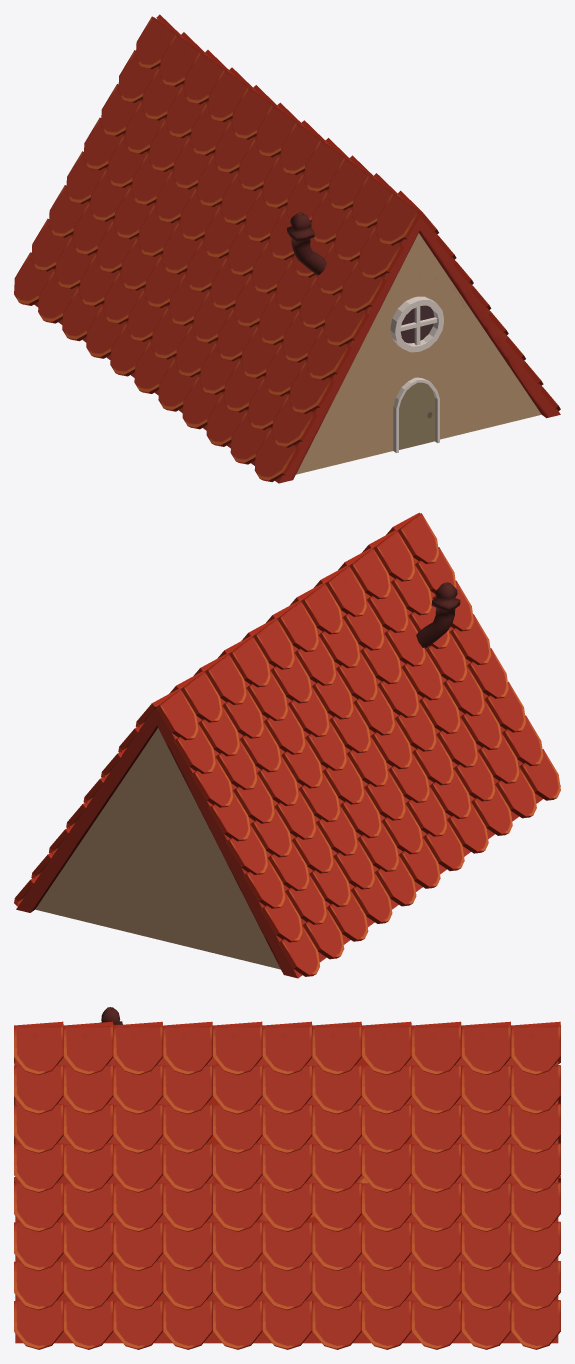
The model's file is House.fbx.
3 views of the same model, one above another, from view 1: azimuth 30°, elevation 25°; view 2: azimuth 150°, elevation 25°; view 3: azimuth 270°, elevation 25° (orthographic). The views are drawn at different scales.
Parts seen in each view (by area): view 1: House; view 2: House; view 3: House.
Boxes of the visible parts, left/top/right/bottom form: House: left=14, top=14, right=560, bottom=483; House: left=14, top=512, right=560, bottom=978; House: left=14, top=1007, right=560, bottom=1349.
Bounding box in the file's own units: 2.08 × 1.63 × 3.2.
